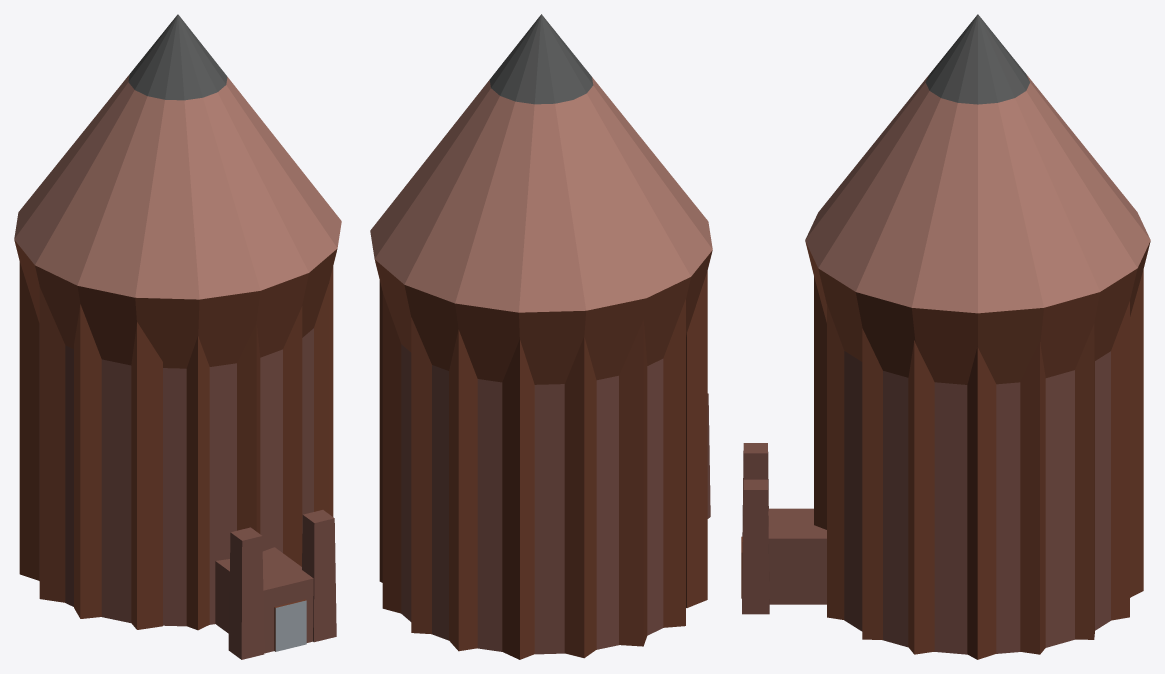
The model's file is kabanbay.glb.
The picture shows the model from 3 angles, left to right: view 1: azimuth 30°, elevation 25°; view 2: azimuth 150°, elevation 25°; view 3: azimuth 270°, elevation 25°; orthographic projection. The views are drawn at different scales.
Parts seen in each view (by area): view 1: kb-test; view 2: kb-test; view 3: kb-test.
Boxes of the visible parts, x1,y1,x2,y2 form: kb-test: (14,14,341,659); kb-test: (370,14,712,659); kb-test: (741,14,1150,659).
Bounding box in the file's own units: 9.76 × 17.97 × 11.56.
